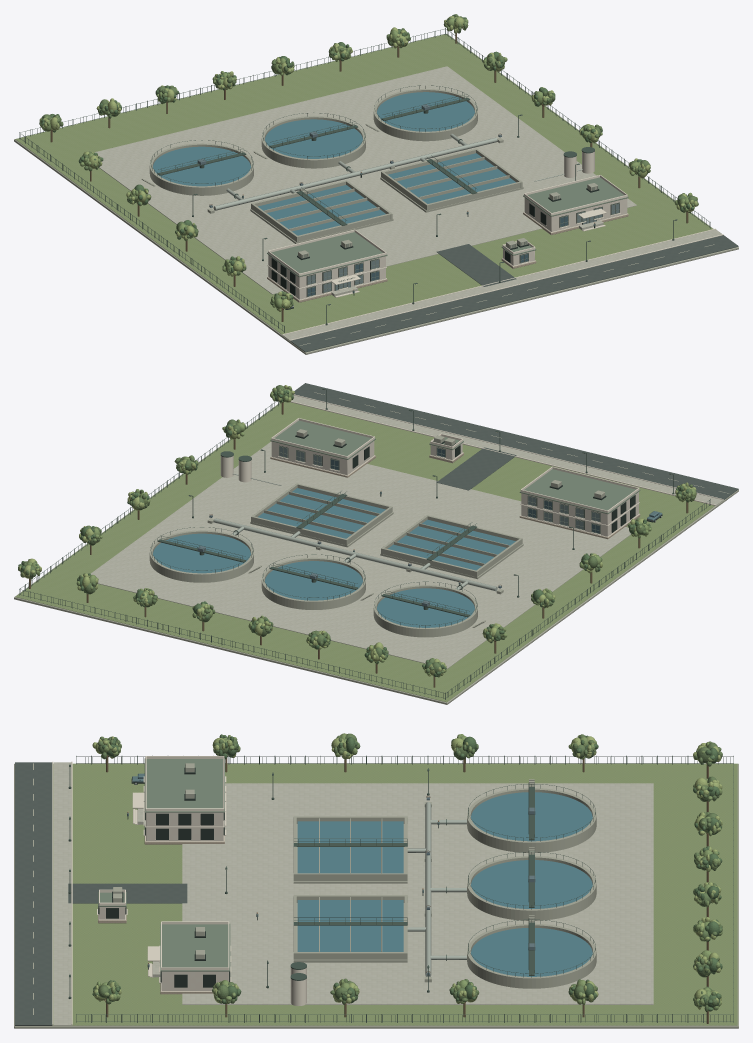
The model's file is waterworks-connected.glb.
3 renders of one model, top to bottom at view 1: azimuth 30°, elevation 25°; view 2: azimuth 150°, elevation 25°; view 3: azimuth 270°, elevation 25°, orthographic. The views are drawn at different scales.
Parts seen in each view (by area): view 1: 材质批次_grass, 材质批次_plaza_paving, 材质批次_poi_service_concrete, 材质批次_waterworks_water, 材质批次_asphalt, 材质批次_street_metal, 材质批次_warm_cream_trim, 材质批次_sage_metal_roof, 材质批次_limestone, 材质批次_leaf_2, 材质批次_leaf_0, 材质批次_leaf_1 (+7 smaller); view 2: 材质批次_plaza_paving, 材质批次_grass, 材质批次_poi_service_concrete, 材质批次_waterworks_water, 材质批次_asphalt, 材质批次_street_metal, 材质批次_sage_metal_roof, 材质批次_warm_cream_trim, 材质批次_limestone, 材质批次_leaf_1, 材质批次_leaf_2, 材质批次_leaf_0 (+7 smaller); view 3: 材质批次_plaza_paving, 材质批次_grass, 材质批次_waterworks_water, 材质批次_poi_service_concrete, 材质批次_asphalt, 材质批次_street_metal, 材质批次_sage_metal_roof, 材质批次_warm_cream_trim, 材质批次_leaf_1, 材质批次_leaf_3, 材质批次_leaf_2, 材质批次_limestone (+5 smaller).
Part boxes in pixels (x1,y1,x2,y2): 材质批次_grass: (15,34,712,334); 材质批次_plaza_paving: (95,66,722,340); 材质批次_poi_service_concrete: (14,35,738,354); 材质批次_waterworks_water: (153,92,515,235); 材质批次_asphalt: (290,235,738,352); 材质批次_street_metal: (19,28,710,332); 材质批次_warm_cream_trim: (267,151,723,340); 材质批次_sage_metal_roof: (267,177,628,277); 材质批次_limestone: (268,198,627,299); 材质批次_leaf_2: (39,15,698,311); 材质批次_leaf_0: (40,16,697,308); 材质批次_leaf_1: (40,14,698,310); 材质批次_plaza_paving: (90,395,723,668); 材质批次_grass: (15,402,714,702); 材质批次_poi_service_concrete: (14,403,738,704); 材质批次_waterworks_water: (153,488,515,627); 材质批次_asphalt: (294,383,738,499); 材质批次_street_metal: (19,388,710,699); 材质批次_sage_metal_roof: (270,420,640,514); 材质批次_warm_cream_trim: (220,394,723,537); 材质批次_limestone: (271,441,638,536); 材质批次_leaf_1: (18,385,694,676); 材质批次_leaf_2: (19,385,696,676); 材质批次_leaf_0: (20,386,696,677); 材质批次_plaza_paving: (53,762,653,1025); 材质批次_grass: (52,763,737,1025); 材质批次_waterworks_water: (297,792,592,976); 材质批次_poi_service_concrete: (14,763,738,1028); 材质批次_asphalt: (15,762,187,1025); 材质批次_street_metal: (68,755,733,1022); 材质批次_sage_metal_roof: (98,758,230,971); 材质批次_warm_cream_trim: (52,756,306,1025); 材质批次_leaf_1: (93,733,722,1011); 材质批次_leaf_3: (92,734,722,1011); 材质批次_leaf_2: (92,734,722,1009); 材质批次_limestone: (99,813,228,990).
Bounding box in the file's own units: 122 × 9.05 × 140.
29 materials, 5 textured.
